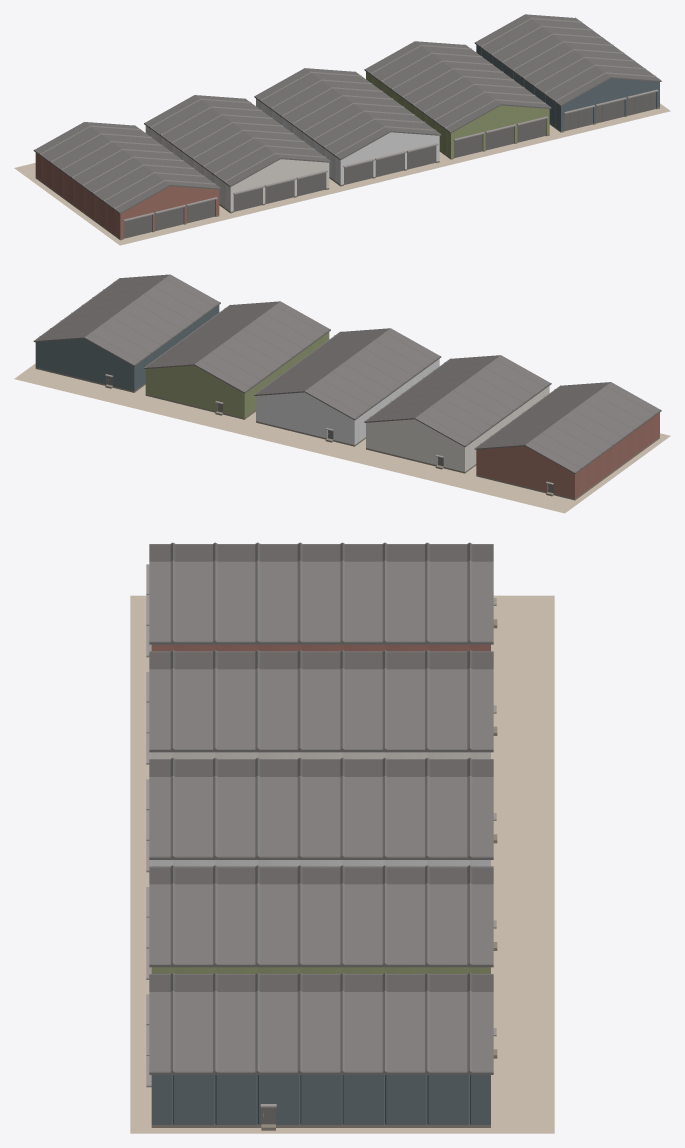
Rendered from WarehouseA.fbx.
3 views of the same model, one above another, from view 1: azimuth 30°, elevation 25°; view 2: azimuth 150°, elevation 25°; view 3: azimuth 270°, elevation 25° (orthographic). The views are drawn at different scales.
Visible parts, largest first — view 1: Warehouse_a_1, Warehouse_a_5, Warehouse_a_2, Warehouse_a_4, Warehouse_a_3; view 2: Warehouse_a_1, Warehouse_a_5, Warehouse_a_2, Warehouse_a_4, Warehouse_a_3; view 3: Warehouse_a_5, Warehouse_a_1, Warehouse_a_3, Warehouse_a_2, Warehouse_a_4.
Boxes of the visible parts, bbox=[...] form: Warehouse_a_1: bbox=[14, 122, 229, 245]; Warehouse_a_5: bbox=[474, 14, 670, 137]; Warehouse_a_2: bbox=[144, 95, 339, 218]; Warehouse_a_4: bbox=[364, 41, 560, 164]; Warehouse_a_3: bbox=[254, 68, 449, 191]; Warehouse_a_1: bbox=[455, 382, 670, 513]; Warehouse_a_5: bbox=[14, 274, 220, 405]; Warehouse_a_2: bbox=[345, 355, 551, 486]; Warehouse_a_4: bbox=[124, 301, 330, 432]; Warehouse_a_3: bbox=[234, 328, 441, 459]; Warehouse_a_5: bbox=[130, 972, 554, 1133]; Warehouse_a_1: bbox=[130, 542, 554, 703]; Warehouse_a_3: bbox=[130, 757, 554, 918]; Warehouse_a_2: bbox=[130, 650, 554, 810]; Warehouse_a_4: bbox=[130, 865, 554, 1025].
Size of the model in its own units: 1500 by 116 by 500.
